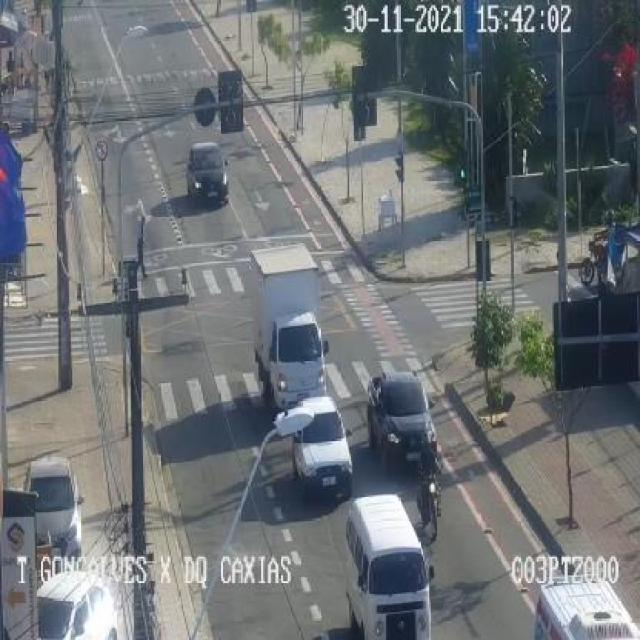Bus: (337, 498, 436, 636)
Car: (284, 400, 364, 500), (366, 366, 442, 466), (11, 455, 87, 551), (37, 563, 128, 639), (176, 139, 238, 215)
Cycle: (577, 217, 623, 296), (416, 478, 449, 530)
Truck: (247, 249, 348, 424), (532, 572, 640, 640)
